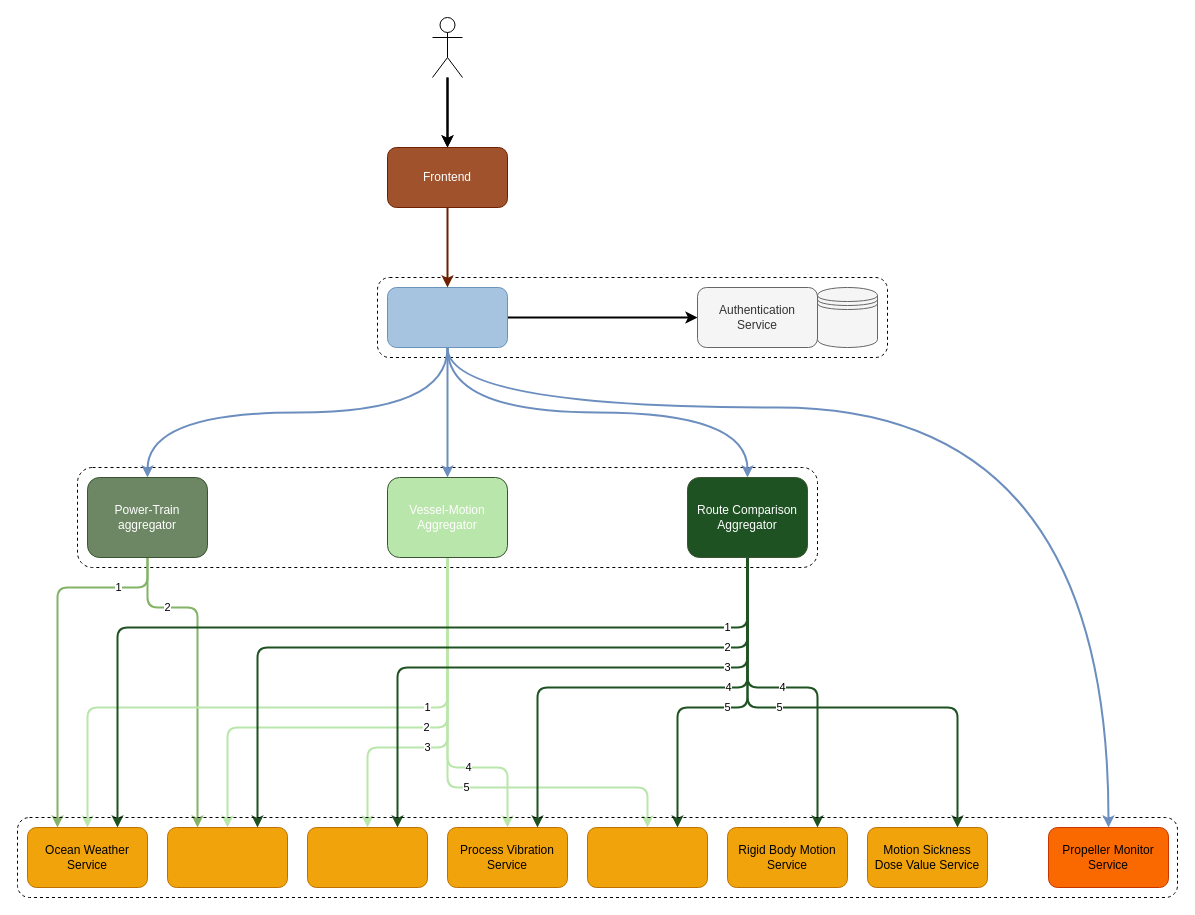
This 1195x915 diagram has some shape labels left out. The centre of each missing label's shape, as x and y in pixels:
"Comfort Service" goes at point (647, 857).
"Power-Train Service" goes at point (227, 857).
"User DB" goes at point (847, 317).
"Vessel Motion Service" goes at point (367, 857).
"Web gateway" goes at point (447, 317).
